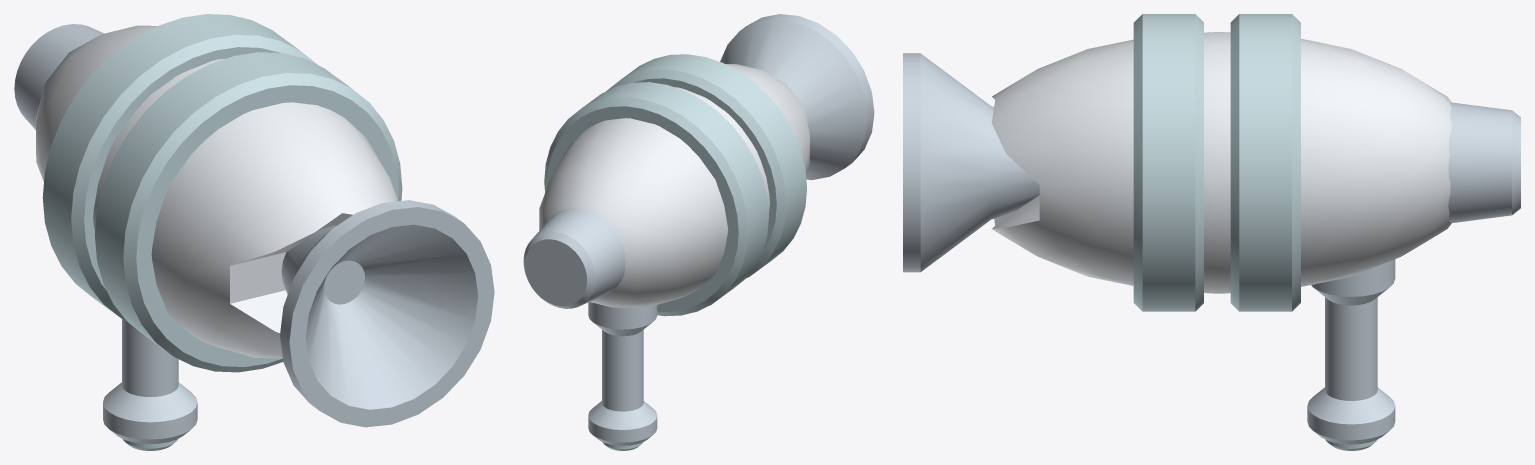
File: gun.glb
3 views of the same model, side by side, from view 1: azimuth 30°, elevation 25°; view 2: azimuth 150°, elevation 25°; view 3: azimuth 270°, elevation 25° (orthographic). The views are drawn at different scales.
Parts seen in each view (by area): view 1: Mesh; view 2: Mesh; view 3: Mesh.
Boxes of the visible parts, x1=… form: Mesh: x1=14, y1=14, x2=494, y2=450; Mesh: x1=523, y1=14, x2=874, y2=450; Mesh: x1=903, y1=14, x2=1520, y2=450.
Size of the model in its own units: 0.34 by 0.52 by 0.7029.
